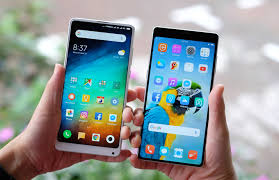bphone: (54, 13, 136, 156), (138, 25, 220, 168)
